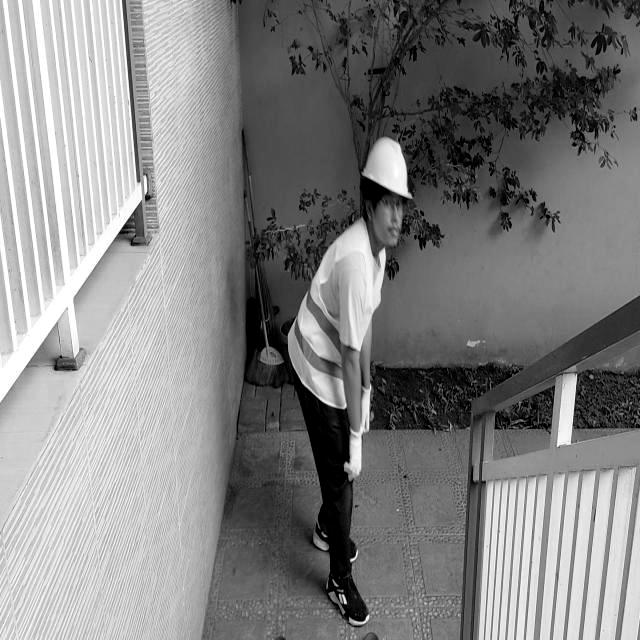No-Boots: (326, 569, 374, 630)
Vest: (284, 230, 394, 412)
